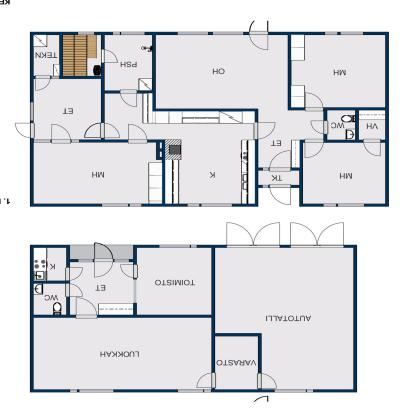door: (224, 224, 282, 248), (290, 222, 342, 248), (90, 240, 114, 282), (64, 268, 86, 299), (80, 123, 121, 139), (248, 21, 270, 49), (74, 297, 100, 320), (268, 184, 293, 206), (270, 150, 294, 171), (126, 123, 148, 145), (49, 124, 72, 143), (252, 122, 276, 140), (14, 121, 38, 138), (302, 140, 325, 157), (305, 92, 325, 111), (362, 139, 381, 158), (308, 119, 331, 134), (120, 90, 139, 108), (196, 374, 217, 389), (119, 264, 140, 278), (257, 374, 279, 387), (36, 76, 52, 92), (101, 50, 119, 63)
window: (156, 34, 288, 108), (164, 111, 254, 204), (33, 143, 159, 204), (290, 33, 384, 107), (304, 141, 386, 205), (35, 79, 101, 139), (259, 110, 317, 166), (105, 34, 150, 90), (104, 94, 157, 140), (62, 33, 102, 76), (34, 34, 58, 76), (327, 110, 356, 140), (358, 110, 384, 140), (258, 168, 298, 186), (209, 30, 244, 36), (180, 388, 213, 393), (274, 388, 315, 392), (338, 30, 364, 36), (159, 244, 197, 248), (176, 32, 212, 36), (102, 203, 129, 207), (338, 203, 364, 207), (119, 31, 144, 35), (200, 204, 233, 207), (322, 30, 338, 36), (70, 390, 112, 392), (324, 204, 337, 208), (78, 31, 94, 34), (79, 259, 91, 263), (186, 204, 198, 207), (112, 32, 120, 36), (128, 204, 143, 206), (115, 261, 129, 262)
zone: (218, 248, 354, 389), (34, 317, 214, 391), (136, 248, 214, 315), (70, 260, 133, 313), (33, 282, 66, 314), (34, 249, 67, 280)
